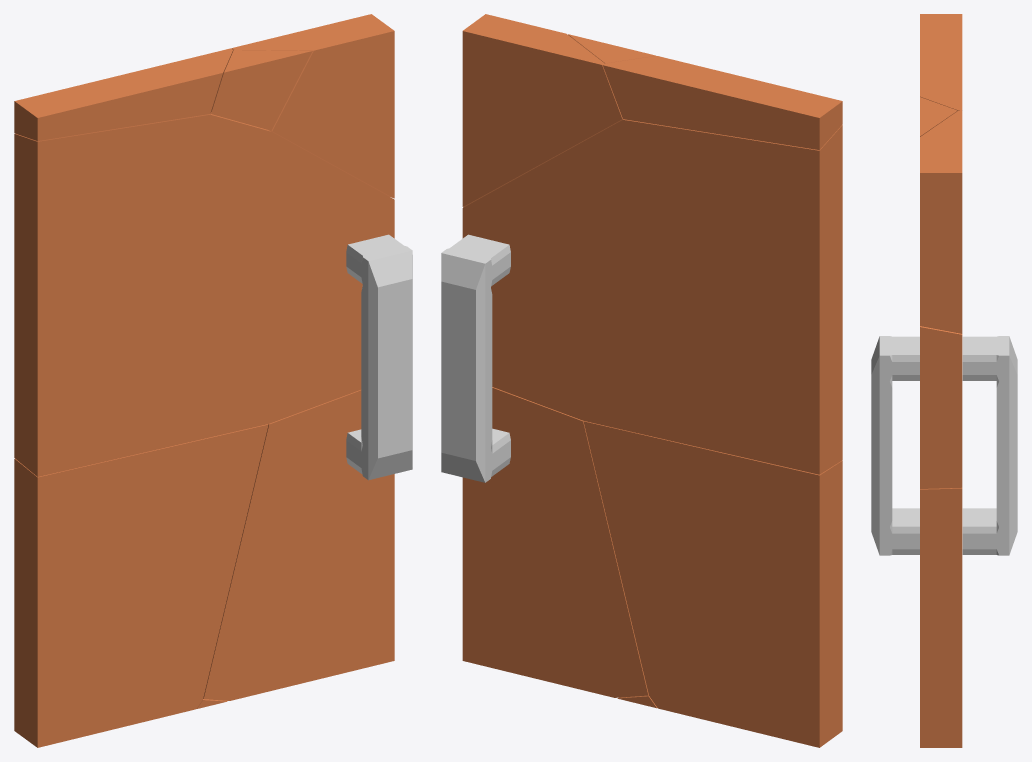
Rendered from Door.fbx.
3 views of the same model, side by side, from view 1: azimuth 30°, elevation 25°; view 2: azimuth 150°, elevation 25°; view 3: azimuth 270°, elevation 25° (orthographic). The views are drawn at different scales.
Visible parts, largest first — view 1: Cube.002_cell.008, Cube.002_cell.009, Cube.002_cell.013, Cube.002_cell.014, Ruchka.001, Cube.002_cell.010, Cube.002_cell.012; view 2: Cube.002_cell.008, Cube.002_cell.009, Cube.002_cell.013, Cube.002_cell.014, Cube.002_cell.010, Ruchka, Cube.002_cell.012; view 3: Cube.002_cell.013, Cube.002_cell.014, Ruchka, Ruchka.001, Cube.002_cell.008, Cube.002_cell.010, Cube.002_cell.012.
Boxes of the visible parts, <box> form: Cube.002_cell.008: <box>14,112,394,476</box>; Cube.002_cell.009: <box>14,424,268,747</box>; Cube.002_cell.013: <box>203,390,394,700</box>; Cube.002_cell.014: <box>232,14,394,198</box>; Ruchka.001: <box>346,234,412,480</box>; Cube.002_cell.010: <box>14,48,232,141</box>; Cube.002_cell.012: <box>211,50,312,130</box>; Cube.002_cell.008: <box>462,119,842,474</box>; Cube.002_cell.009: <box>583,421,842,747</box>; Cube.002_cell.013: <box>462,387,648,697</box>; Cube.002_cell.014: <box>462,14,622,206</box>; Cube.002_cell.010: <box>602,56,842,149</box>; Ruchka: <box>441,234,510,482</box>; Cube.002_cell.012: <box>568,34,655,63</box>; Cube.002_cell.013: <box>920,487,962,747</box>; Cube.002_cell.014: <box>920,110,962,333</box>; Ruchka: <box>962,336,1017,555</box>; Ruchka.001: <box>871,336,919,555</box>; Cube.002_cell.008: <box>920,326,962,488</box>; Cube.002_cell.010: <box>920,14,962,110</box>; Cube.002_cell.012: <box>920,97,957,136</box>.
Size of the model in its own units: 118 by 199 by 45.88.
